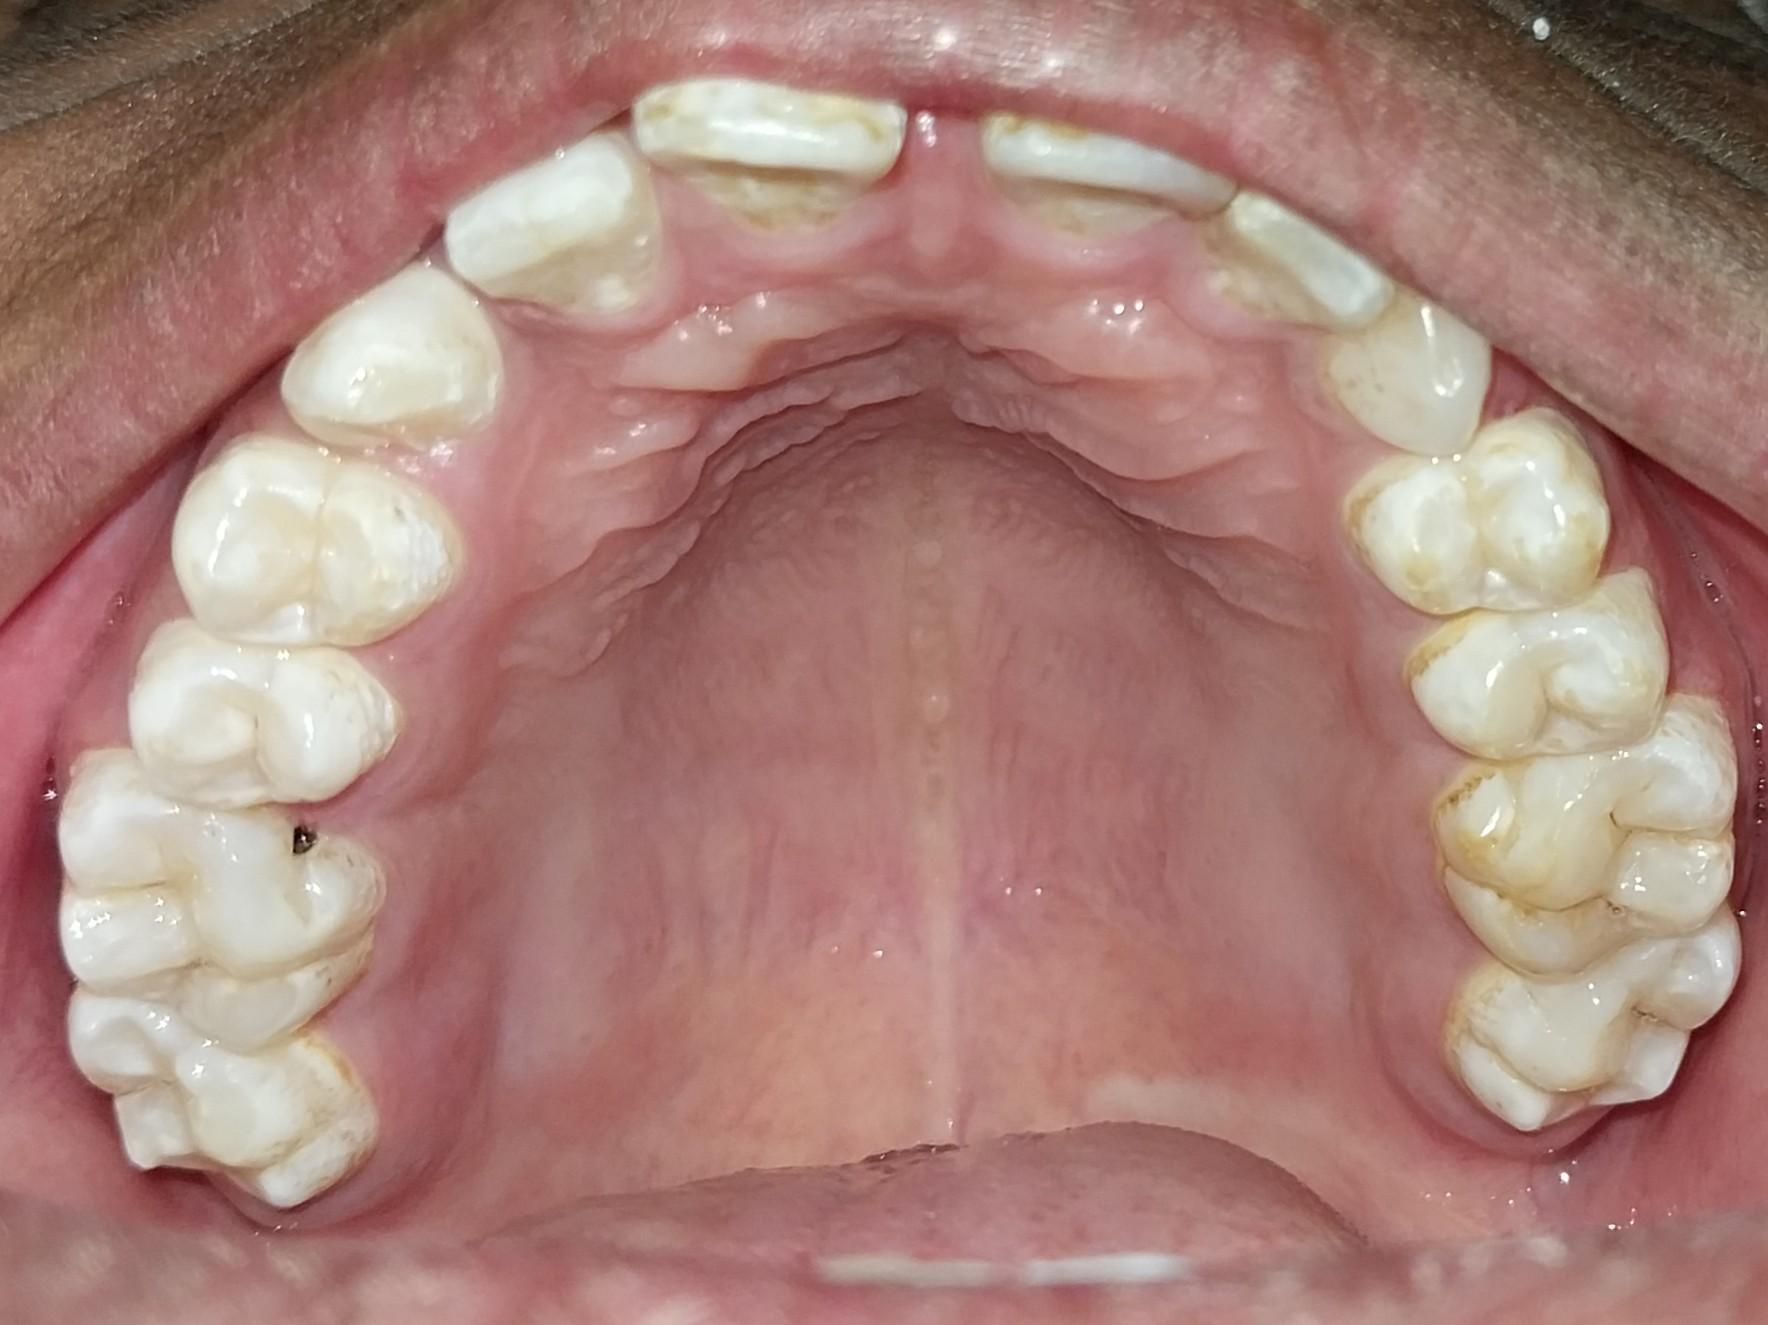D: (58, 747, 374, 1048)
